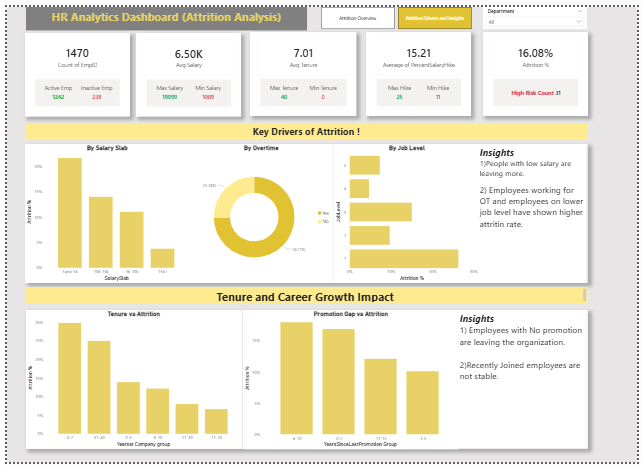

Layout of this report page (visuals, bound fields, positions):
{"tool":"powerbi","page":{"name":"Attrition Drivers and Insights","canvas":[1800,1300],"ordinal":1},"visuals":[{"type":"shape","box":[53.3,866.7,1606.7,396.7],"z":0},{"type":"shape","box":[53.3,390,1606.7,396.7],"z":1000},{"type":"cardVisual","fields":{"Data":["Count(HR_Analytics.EmpID)"]},"box":[52.2,73.3,300,238.9],"z":2000},{"type":"cardVisual","fields":{"Data":["Avg(HR_Analytics.MonthlyIncome)"]},"box":[368.9,73.3,300,238.9],"z":3000},{"type":"cardVisual","fields":{"Data":["Avg(HR_Analytics.PercentSalaryHike)"]},"box":[1026,72,300,240],"z":4000},{"type":"cardVisual","fields":{"Data":["Avg(HR_Analytics.YearsAtCompany)"]},"box":[694,72,304,240],"z":5000},{"type":"cardVisual","fields":{"Data":["_Measure.Attrition %"]},"box":[1360,72,300,240],"z":6000},{"type":"textbox","box":[52,332,1608,48],"z":7000},{"type":"columnChart","title":"By Salary Slab","fields":{"Y":["_Measure.Attrition %"],"Category":["HR_Analytics.SalarySlab"]},"box":[50,390,470,396.7],"z":8000},{"type":"donutChart","title":"By Overtime","fields":{"Y":["_Measure.Attrition %"],"Category":["HR_Analytics.OverTime"]},"box":[520,390,413.3,396.7],"z":9000},{"type":"barChart","title":"By Job Level","fields":{"Y":["_Measure.Attrition %"],"Category":["HR_Analytics.JobLevel"]},"box":[933.3,390,416.7,396.7],"z":10000},{"type":"textbox","box":[52,800,1608,48],"z":11000},{"type":"columnChart","title":"Tenure vs Attrition","fields":{"Category":["HR_Analytics.Yearsat Company group"],"Y":["_Measure.Attrition %"]},"box":[53.3,866.7,616.7,396.7],"z":12000},{"type":"textbox","box":[53.3,0,803.3,66.7],"z":14000},{"type":"textbox","box":[1346.7,390,310,396.7],"z":15000},{"type":"textbox","box":[1290,865,370,395],"z":16000},{"type":"columnChart","title":"Promotion Gap vs Attrition","fields":{"Y":["_Measure.Attrition %"],"Category":["HR_Analytics.YearsSinceLastPromotion Group"]},"box":[674,866,616,398],"z":16001},{"type":"pageNavigator","box":[896.7,0,430,63.3],"z":16002},{"type":"slicer","fields":{"Values":["HR_Analytics.Department"]},"box":[1360,0,296.7,63.3],"z":16003}]}

Visuals, with their boxes in screenshot pixels (x1, y1, x2, y2), scaled from the page's 1800x1300 canvas onto the 642x470 screenshot:
shape: region(19, 313, 592, 457)
shape: region(19, 141, 592, 284)
cardVisual - Count(HR_Analytics.EmpID): region(19, 27, 126, 113)
cardVisual - Avg(HR_Analytics.MonthlyIncome): region(132, 27, 239, 113)
cardVisual - Avg(HR_Analytics.PercentSalaryHike): region(366, 26, 473, 113)
cardVisual - Avg(HR_Analytics.YearsAtCompany): region(248, 26, 356, 113)
cardVisual - _Measure.Attrition %: region(485, 26, 592, 113)
textbox: region(19, 120, 592, 137)
"By Salary Slab" columnChart: region(18, 141, 185, 284)
"By Overtime" donutChart: region(185, 141, 333, 284)
"By Job Level" barChart: region(333, 141, 482, 284)
textbox: region(19, 289, 592, 307)
"Tenure vs Attrition" columnChart: region(19, 313, 239, 457)
textbox: region(19, 0, 306, 24)
textbox: region(480, 141, 591, 284)
textbox: region(460, 313, 592, 456)
"Promotion Gap vs Attrition" columnChart: region(240, 313, 460, 457)
pageNavigator: region(320, 0, 473, 23)
slicer - HR_Analytics.Department: region(485, 0, 591, 23)
